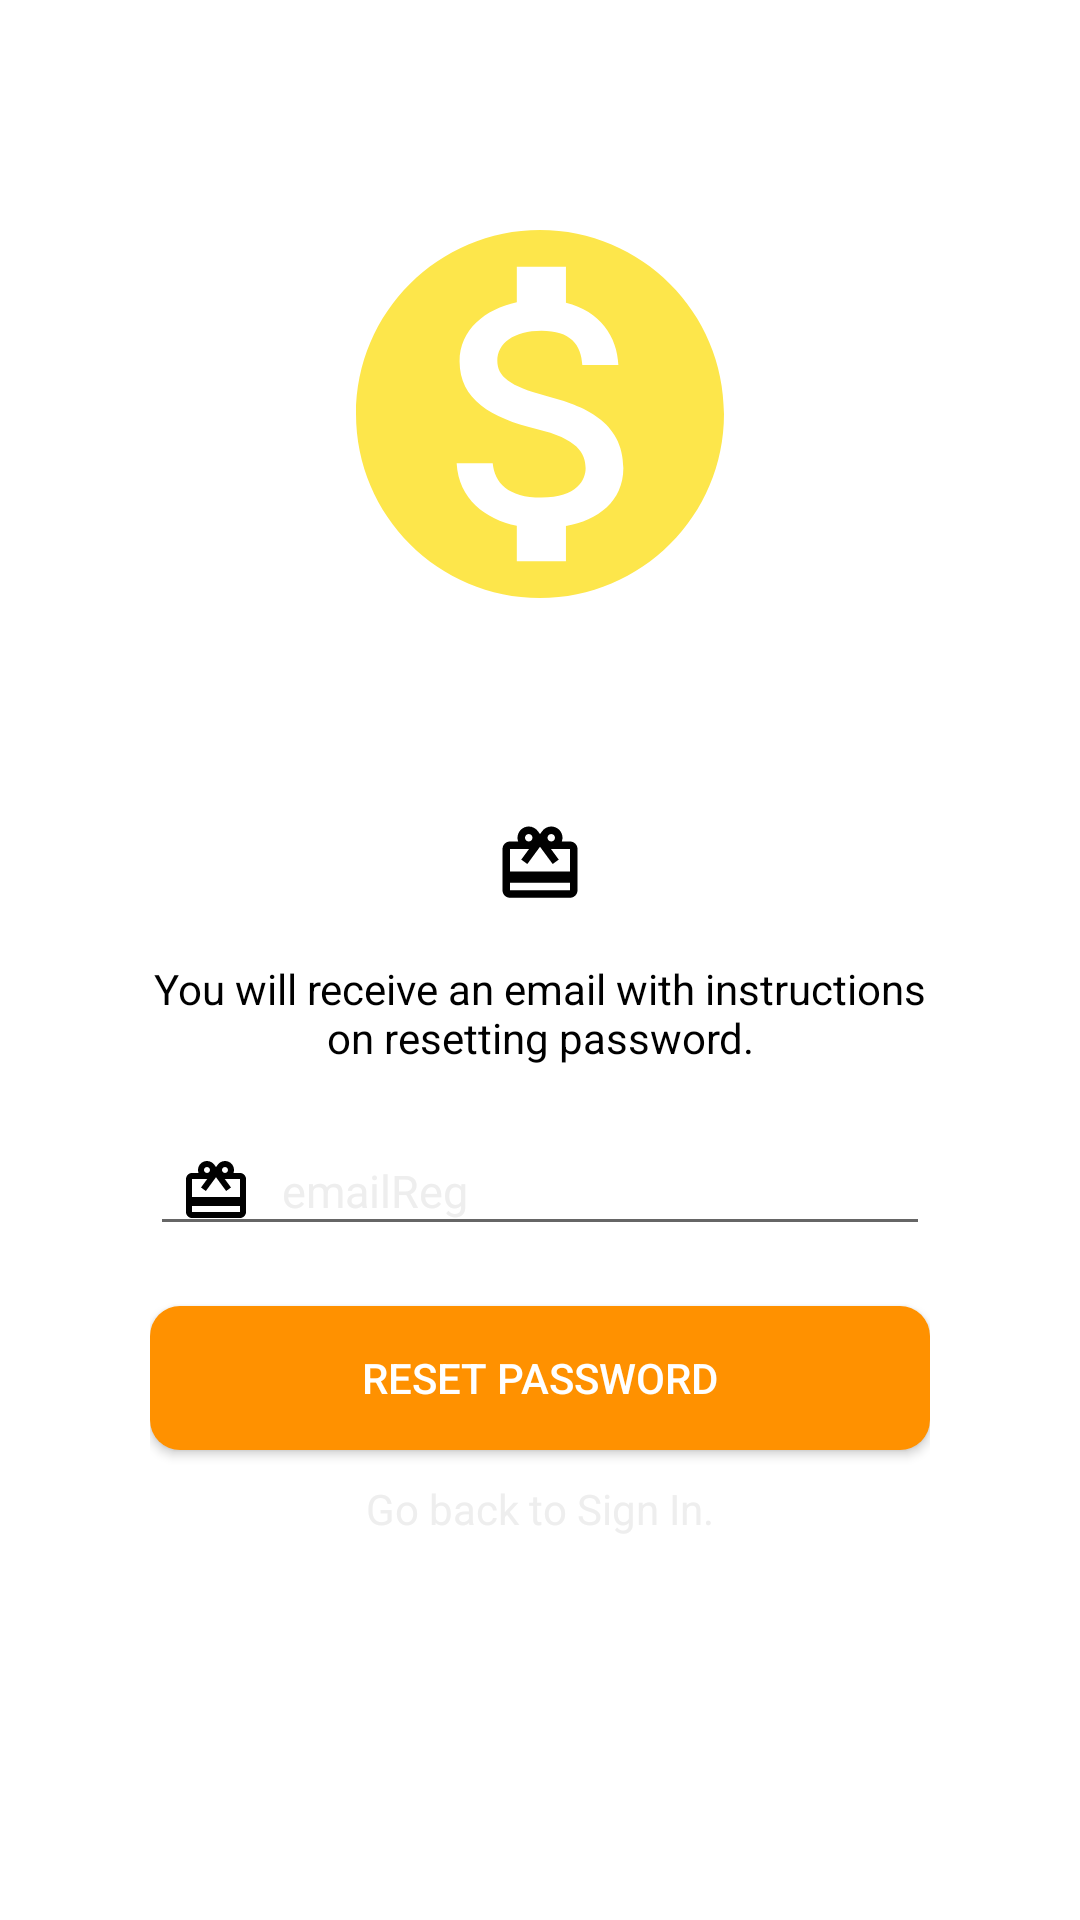

Icons on this 1080*1920 Android screen, each with its box as bbox=[x1, y1, x2, y2]:
vouchers: bbox=[502, 826, 578, 898]
